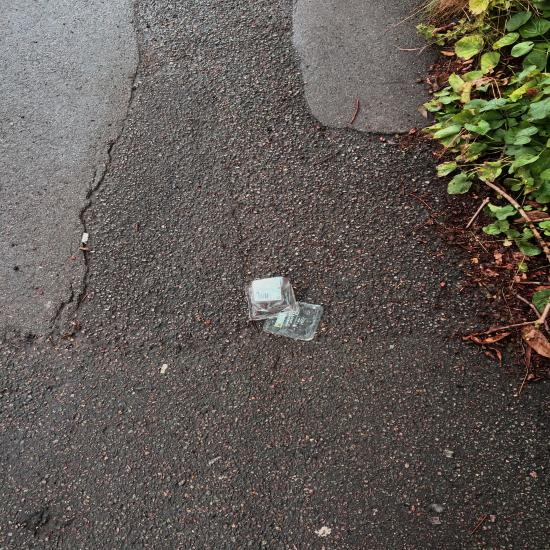Cigarette: (82, 233, 89, 245)
Disposable food container: (244, 276, 299, 320)
Plastic film: (263, 301, 324, 341)
